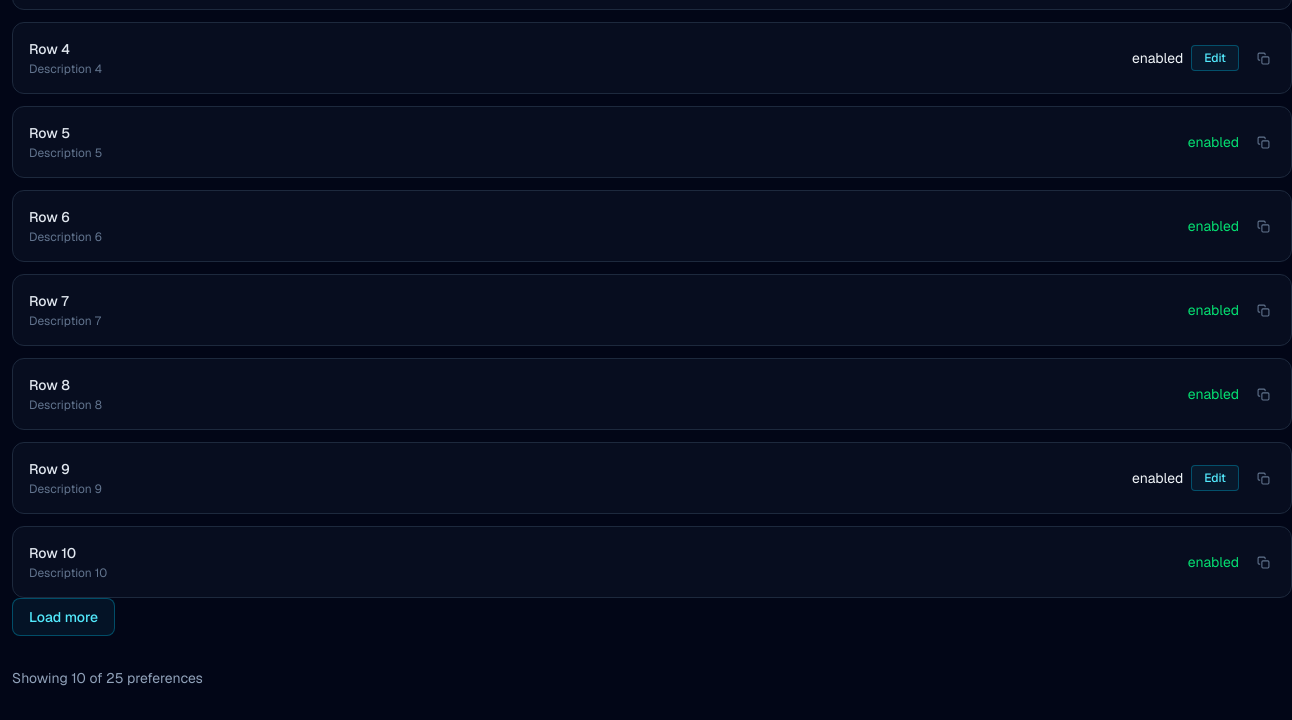
it: SettingsPage – reset-on-filter behavior › toggling a category that yields fewer than PAGE_SIZE rows hides Load more
This screenshot has width=1292, height=720.
(page scrolled)
Click the button with test id "settings-load-more": (64, 617) [12, 598, 115, 636]
(page scrolled)
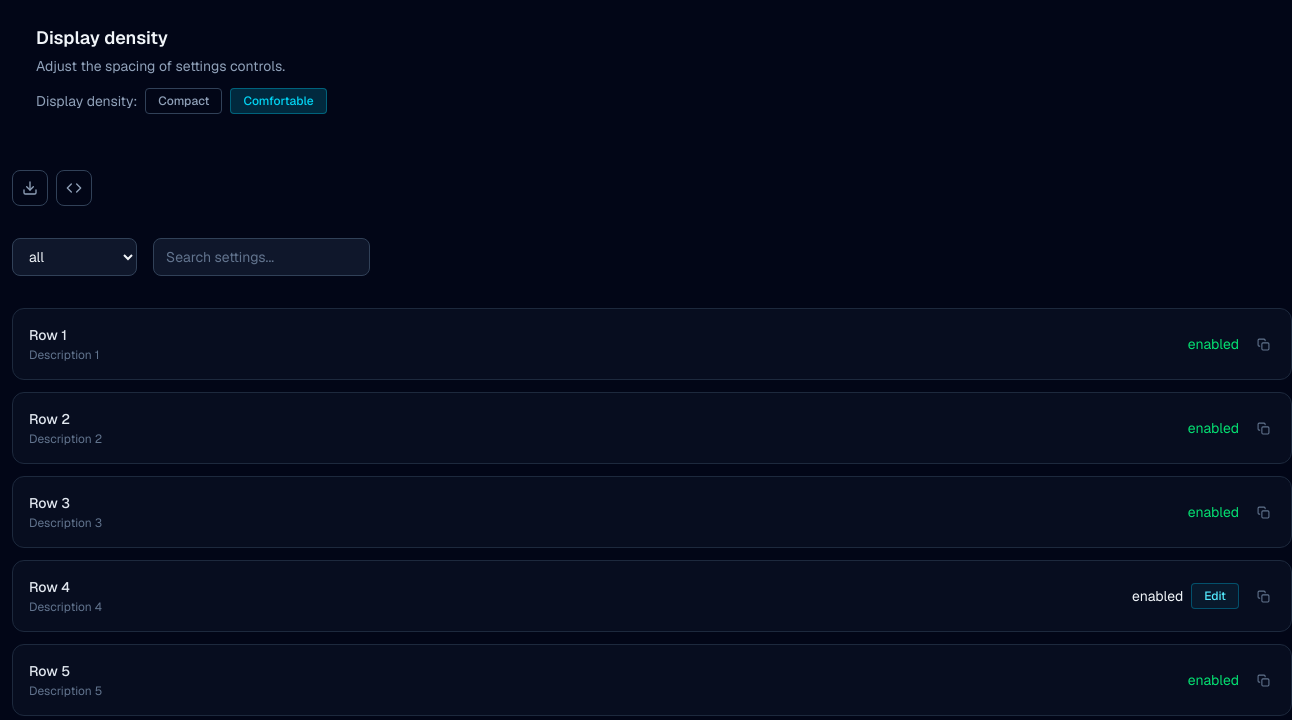
Select "notifications" in the dropdown with test id "settings-category-filter": (74, 257) [12, 238, 137, 276]
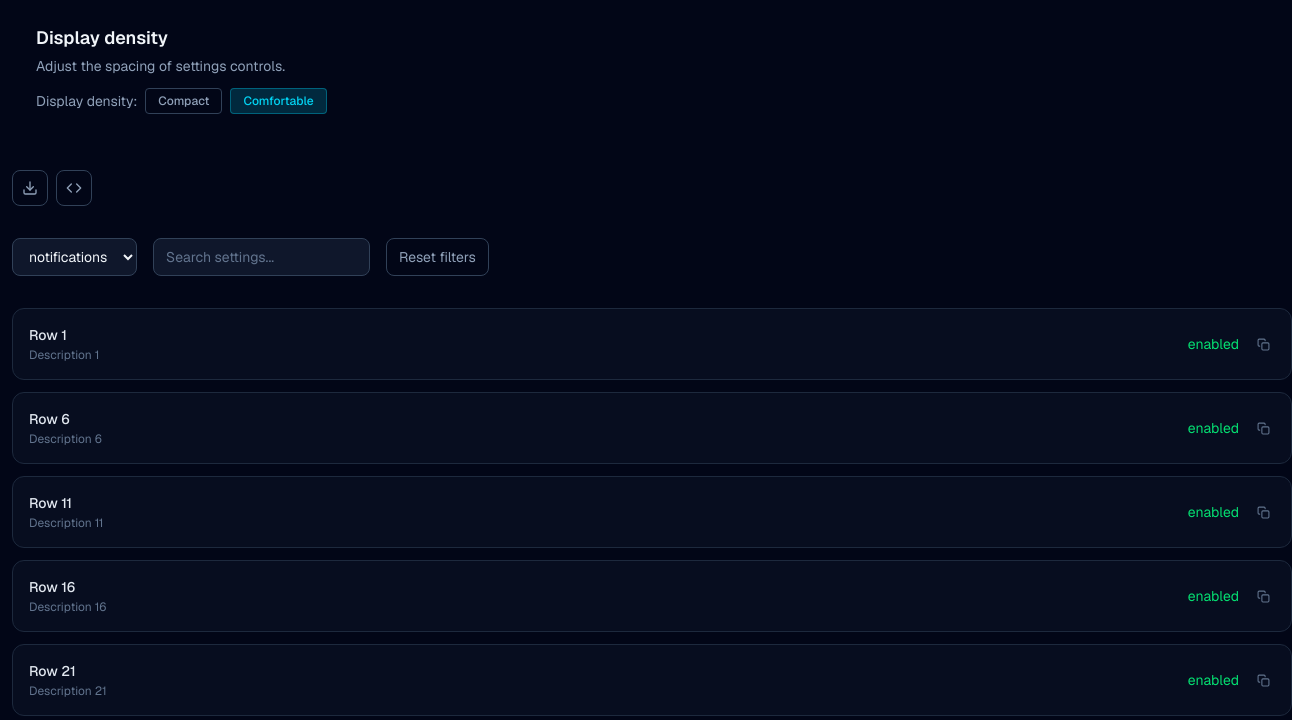
Result: the number of list items is 5 at [12, 308, 1291, 380]; [12, 392, 1291, 464]; [12, 476, 1291, 548]; [12, 560, 1291, 632]; [12, 644, 1291, 716]
